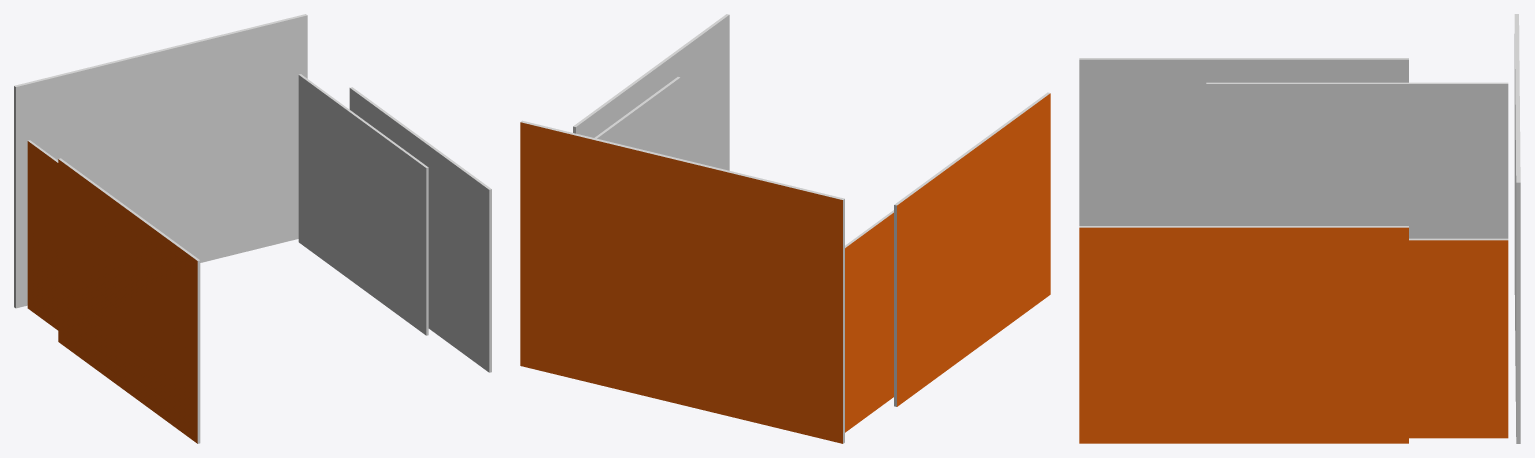
Rendered from 161 - Ricostruzione con ambienti  _camminata.glb.
3 views of the same model, side by side, from view 1: azimuth 30°, elevation 25°; view 2: azimuth 150°, elevation 25°; view 3: azimuth 270°, elevation 25° (orthographic). The views are drawn at different scales.
Parts seen in each view (by area): view 1: 161 - Ricostruzione con ambienti; view 2: 161 - Ricostruzione con ambienti; view 3: 161 - Ricostruzione con ambienti.
Boxes of the visible parts, x1,y1,x2,y2 form: 161 - Ricostruzione con ambienti: (14,14,491,443); 161 - Ricostruzione con ambienti: (520,14,1050,443); 161 - Ricostruzione con ambienti: (1079,14,1520,443).
Bounding box in the file's own units: 4.4 × 3.16 × 4.83.
